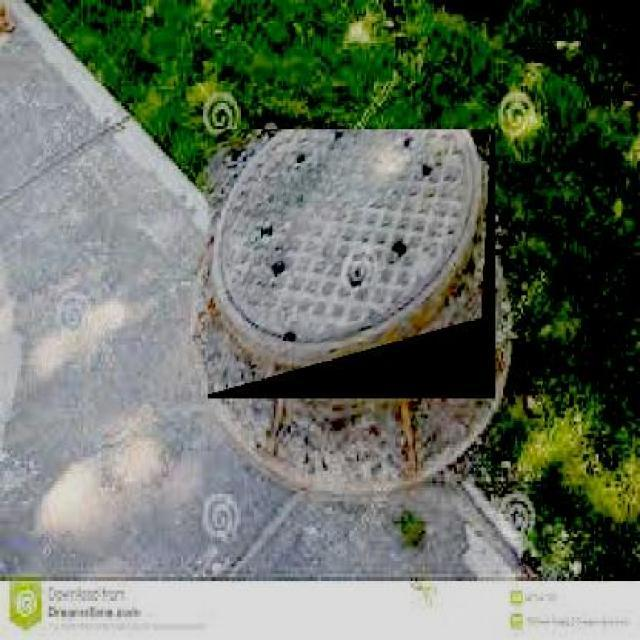Manhole: (208, 130, 496, 398), (198, 396, 508, 498)
